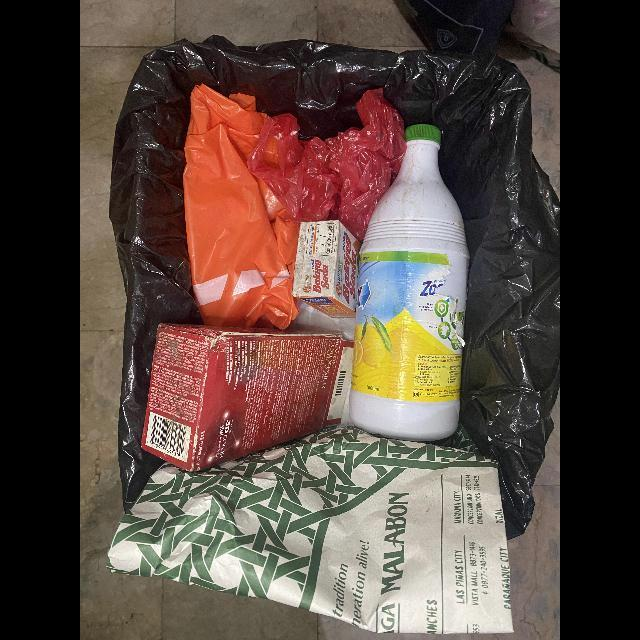cardboard: (141, 324, 354, 472), (292, 220, 360, 319)
paper: (107, 426, 515, 635)
plastic_bag: (183, 85, 299, 333), (251, 88, 408, 243)
plastic_bottle: (347, 125, 469, 444)
